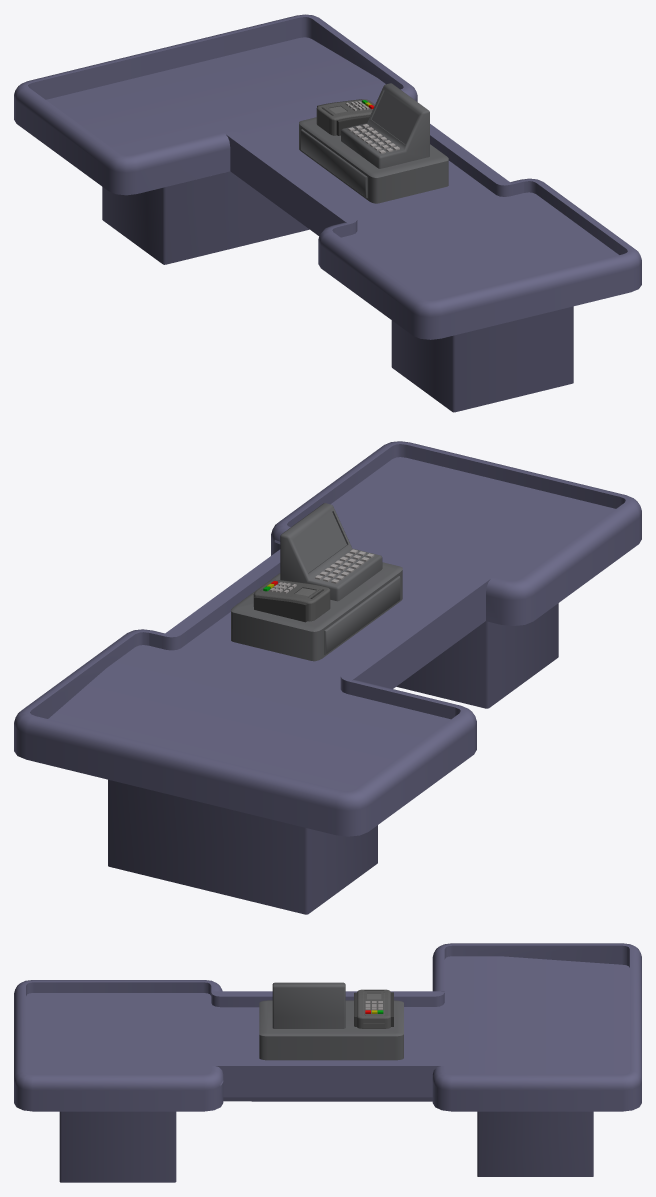
Rendered from CaixaModel.fbx.
3 renders of one model, top to bottom at view 1: azimuth 30°, elevation 25°; view 2: azimuth 150°, elevation 25°; view 3: azimuth 270°, elevation 25°, orthographic. The views are drawn at different scales.
Parts seen in each view (by area): view 1: Cube, Cube.009, Cube.002, Cube.005, Cube.018; view 2: Cube, Cube.009, Cube.002, Cube.005, Cube.018; view 3: Cube, Cube.009, Cube.002, Cube.005, Cube.018.
Part boxes in pixels (bbox=[...]): Cube: bbox=[14, 14, 641, 339]; Cube.009: bbox=[102, 171, 573, 412]; Cube.002: bbox=[299, 117, 448, 203]; Cube.005: bbox=[341, 83, 429, 168]; Cube.018: bbox=[316, 99, 374, 135]; Cube: bbox=[14, 441, 641, 836]; Cube.009: bbox=[108, 603, 558, 914]; Cube.002: bbox=[231, 562, 402, 661]; Cube.005: bbox=[280, 503, 382, 601]; Cube.018: bbox=[253, 579, 330, 622]; Cube: bbox=[14, 943, 641, 1111]; Cube.009: bbox=[59, 1097, 593, 1182]; Cube.002: bbox=[259, 1000, 403, 1060]; Cube.005: bbox=[272, 982, 345, 1028]; Cube.018: bbox=[354, 989, 393, 1028].
Bounding box in the file's own units: 799 × 489 × 1518.
